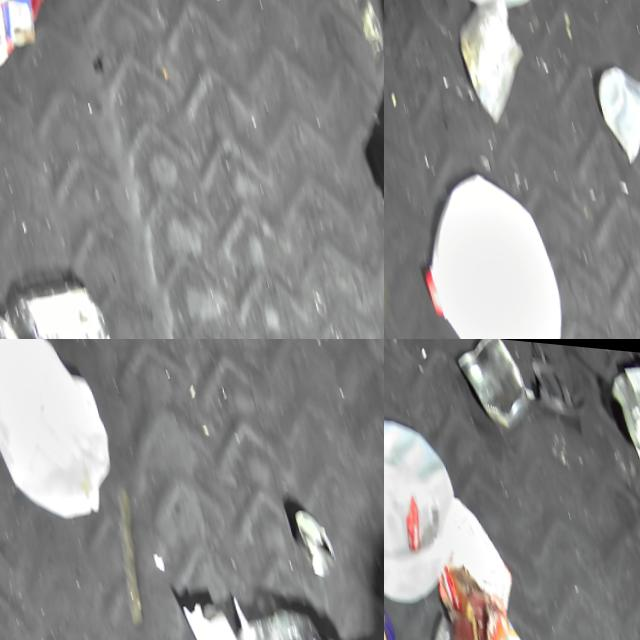can: (444, 0, 542, 131), (450, 339, 539, 432), (281, 492, 338, 576)
milk_jug: (392, 145, 581, 339), (0, 339, 125, 530), (384, 394, 480, 617)
plastic_bottle: (0, 252, 114, 339)
